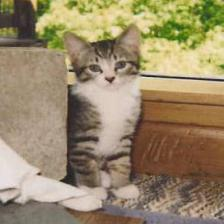cat: (61, 27, 158, 90)
